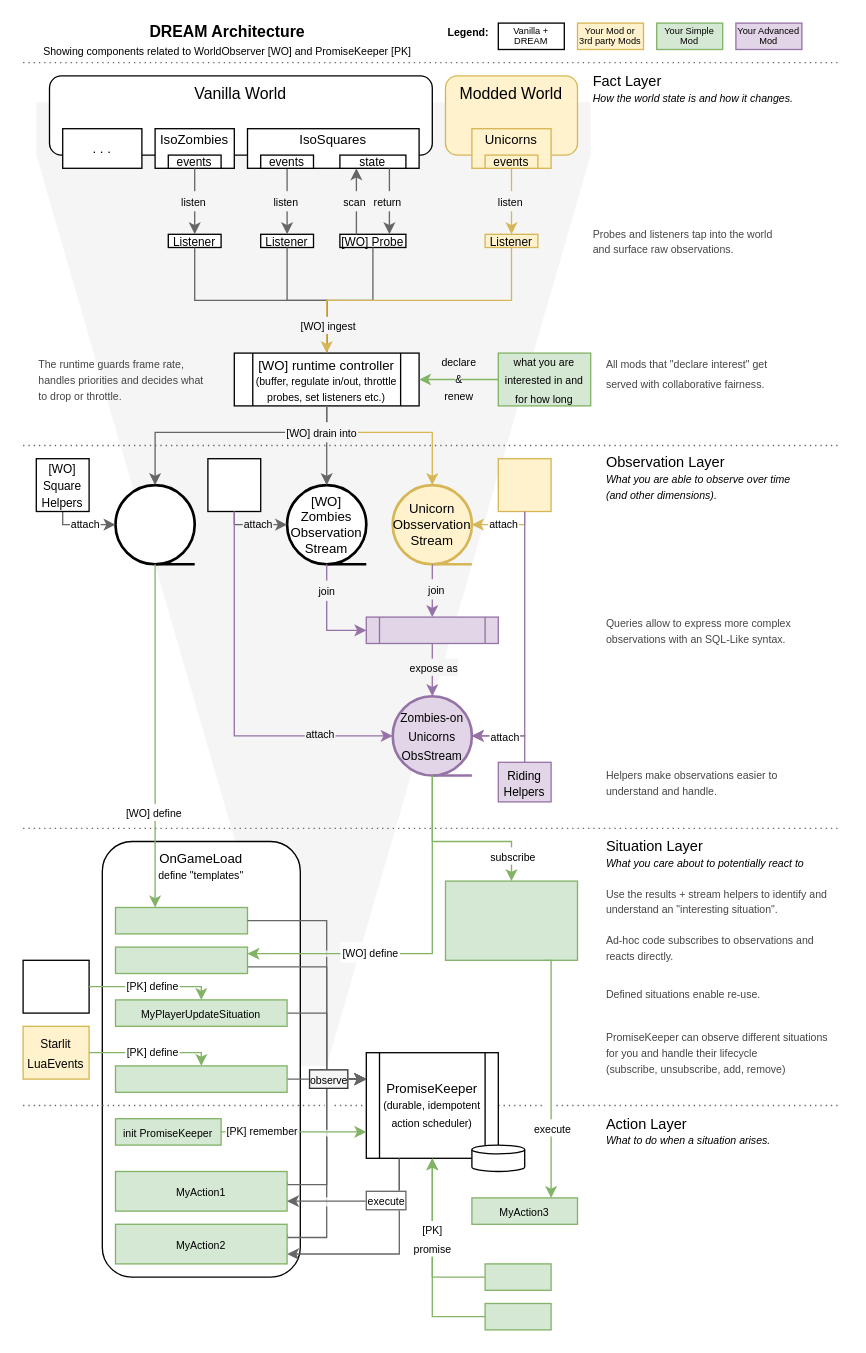
Some shapes in this 866 by 1353 pixel diagram are drawn without their labels. Each missing label, with the box of its shape:
[LQR] Query: (365, 616, 498, 644)
[WO] Square Observation Stream: (114, 483, 195, 565)
[WO] Zombie Helpers: (207, 457, 261, 512)
ModData: (471, 1144, 525, 1172)
My own subscription code (check each observation on the spot and decide): (444, 880, 578, 960)
MyEventBased Situation: (114, 1065, 287, 1092)
MyPromise1: (484, 1263, 551, 1290)
MyPromise2: (484, 1302, 551, 1330)
MySquareSituation: (114, 906, 248, 934)
MyZedRiderSituation: (114, 946, 248, 974)
Unicorn Helpers: (497, 457, 551, 512)
Vanilla PZ Events: (22, 959, 89, 1013)
